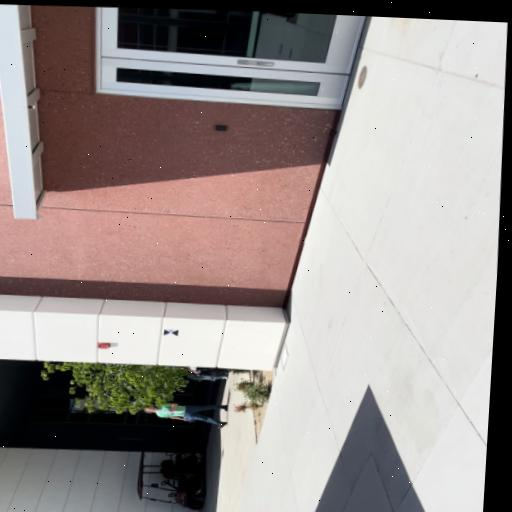target6: (164, 329, 179, 336)
